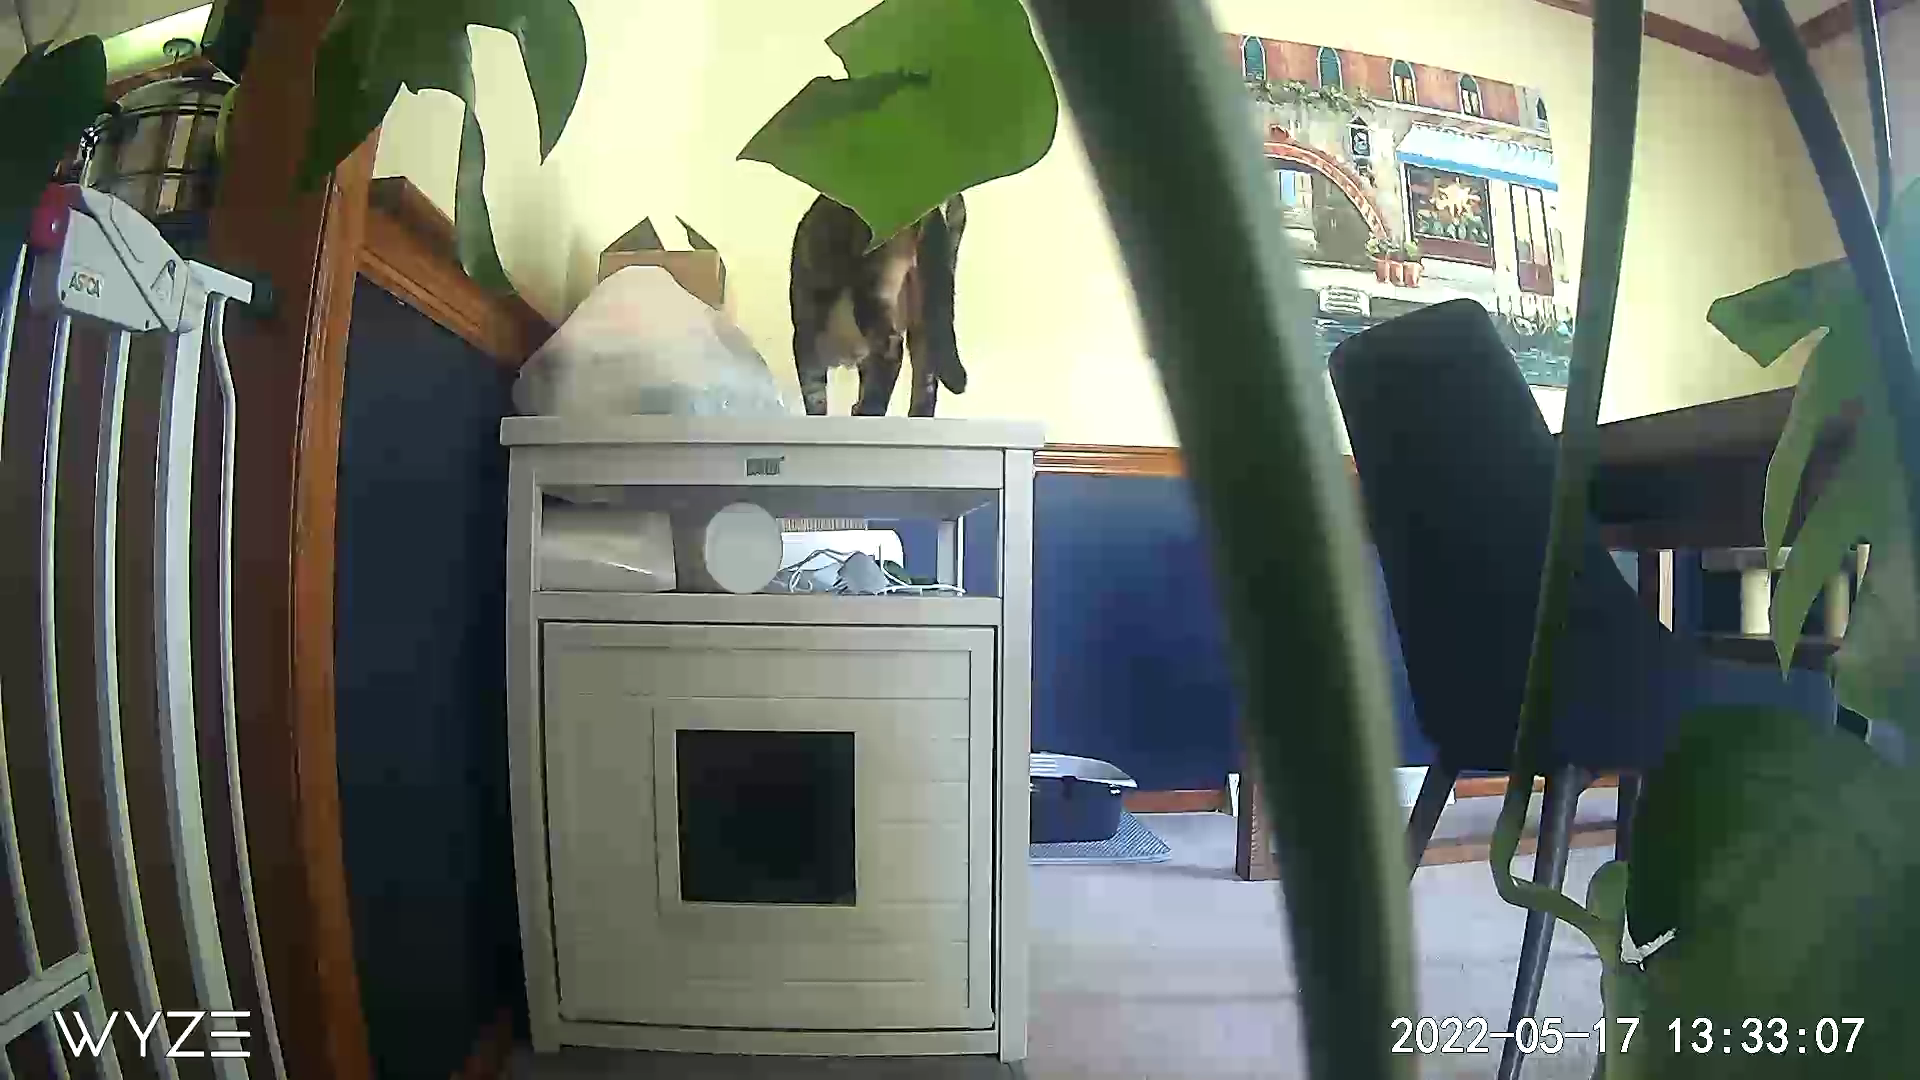sparky: (774, 190, 968, 425)
